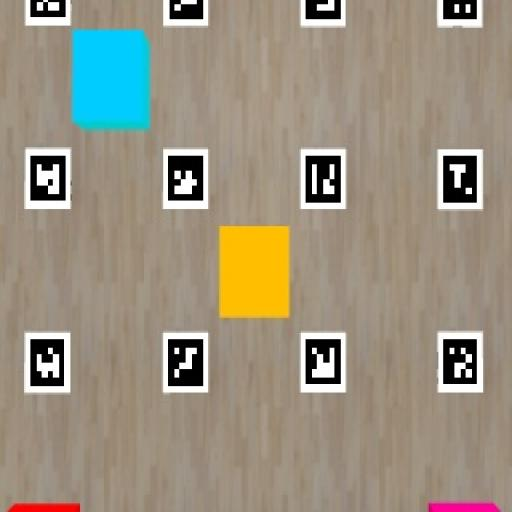car: (71, 28, 150, 130), (429, 502, 500, 511)
fire: (220, 227, 289, 317), (8, 502, 81, 511)
